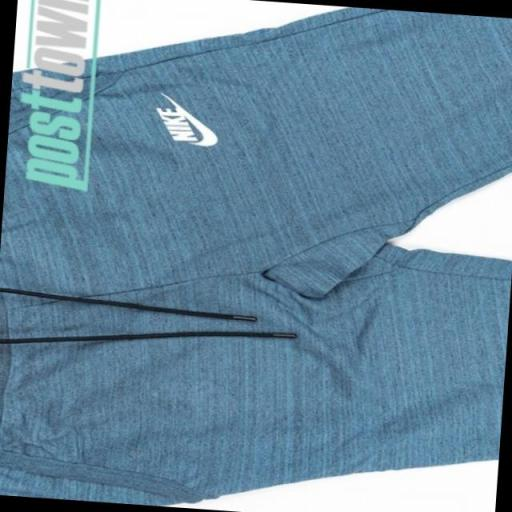Nike: (178, 102, 223, 149), (156, 104, 200, 142)
